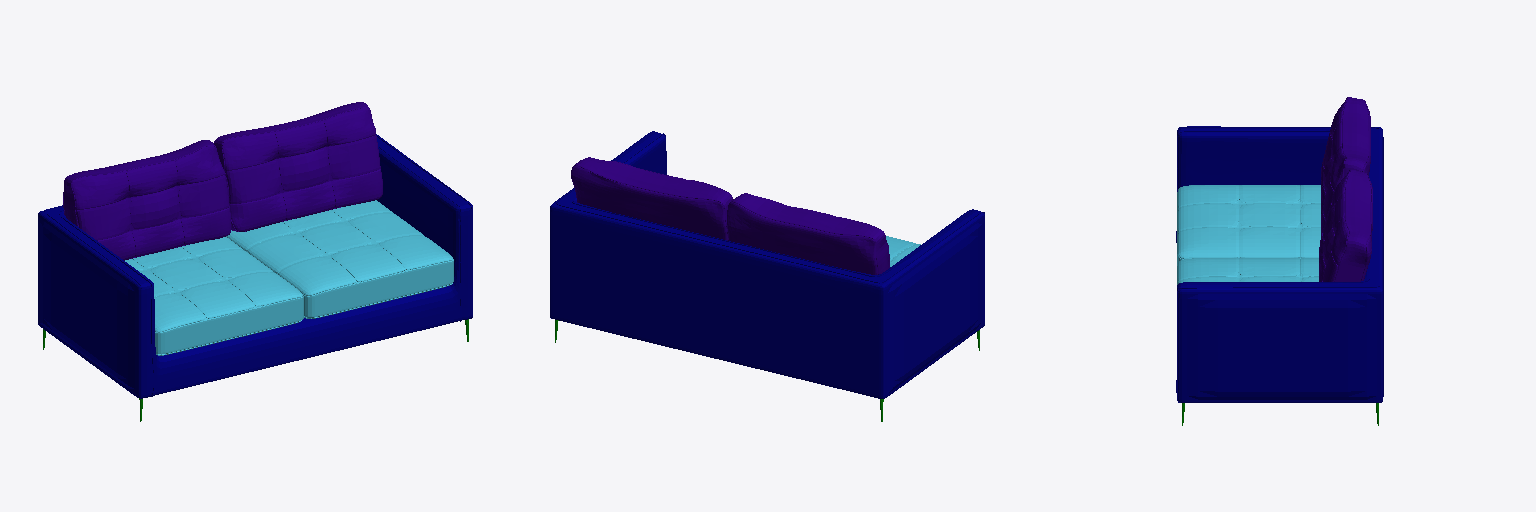
File: bed15.obj
3 views of the same model, side by side, from view 1: azimuth 30°, elevation 25°; view 2: azimuth 150°, elevation 25°; view 3: azimuth 270°, elevation 25° (orthographic).
Parts seen in each view (by area): view 1: Object.5, Object.6, Object.8, Object.9, Object.7; view 2: Object.5, Object.9, Object.8, Object.7; view 3: Object.5, Object.7, Object.8, Object.9, Object.6.
Part boxes in pixels (x1,y1,x2,y2): Object.5: (38, 134, 472, 398); Object.6: (226, 200, 453, 318); Object.8: (214, 102, 382, 231); Object.9: (63, 140, 231, 260); Object.7: (125, 237, 303, 355); Object.5: (550, 131, 984, 398); Object.9: (727, 193, 889, 274); Object.8: (571, 157, 732, 240); Object.7: (886, 236, 920, 266); Object.5: (1176, 126, 1383, 402); Object.7: (1177, 185, 1320, 265); Object.8: (1319, 170, 1372, 281); Object.9: (1321, 97, 1370, 234); Object.6: (1177, 258, 1318, 284).
Bounding box in the file's own units: 63.94 × 32.28 × 33.61.